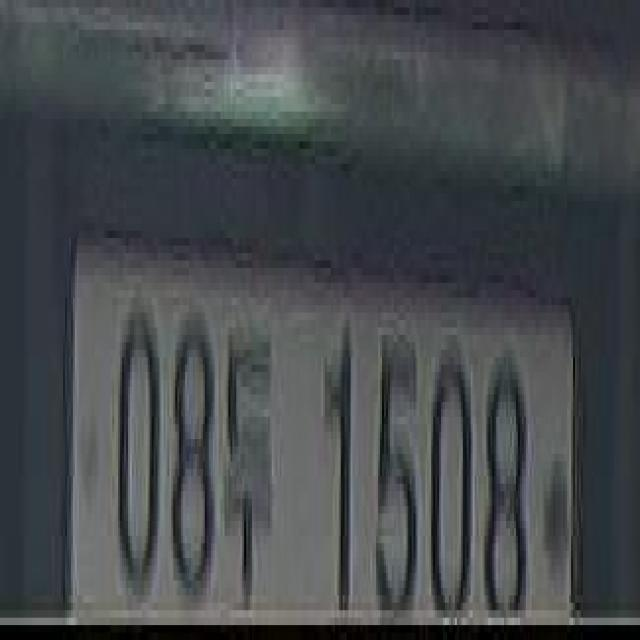illegal_plate: (72, 232, 590, 632)
